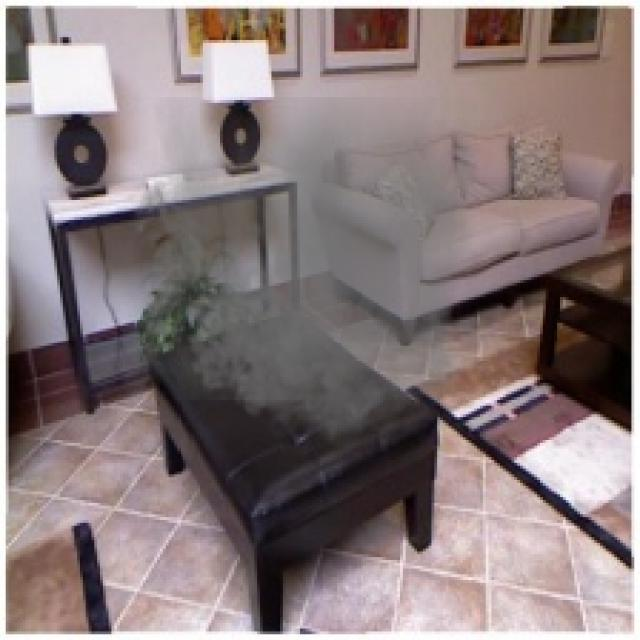smoke: (123, 97, 477, 460)
